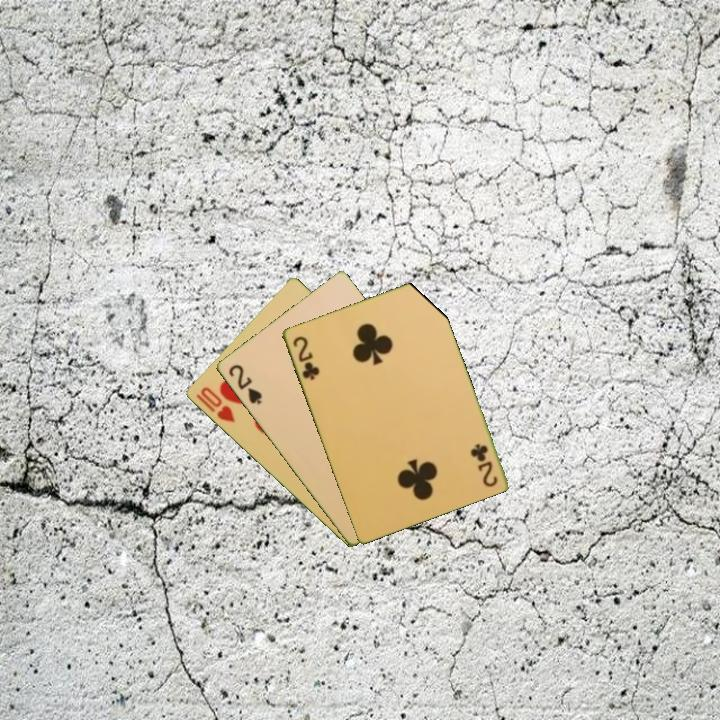10h: (192, 383, 238, 426)
2c: (289, 332, 322, 383), (468, 440, 500, 490)
2s: (225, 361, 265, 408)
